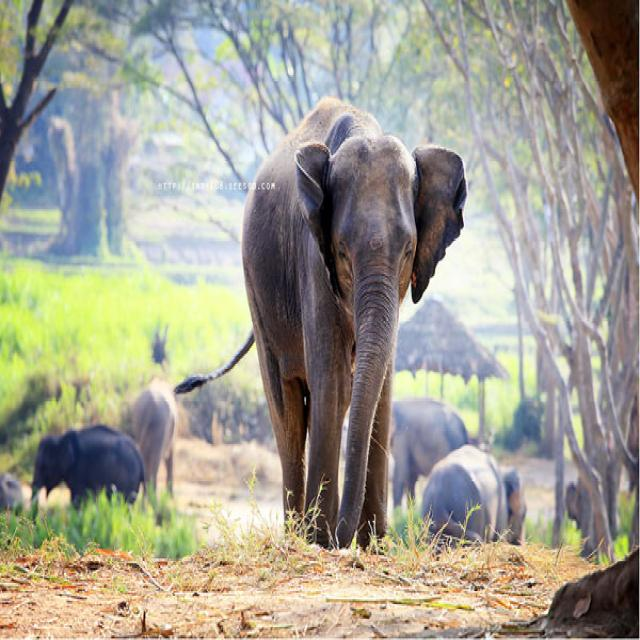Elephant: (220, 50, 474, 584)
